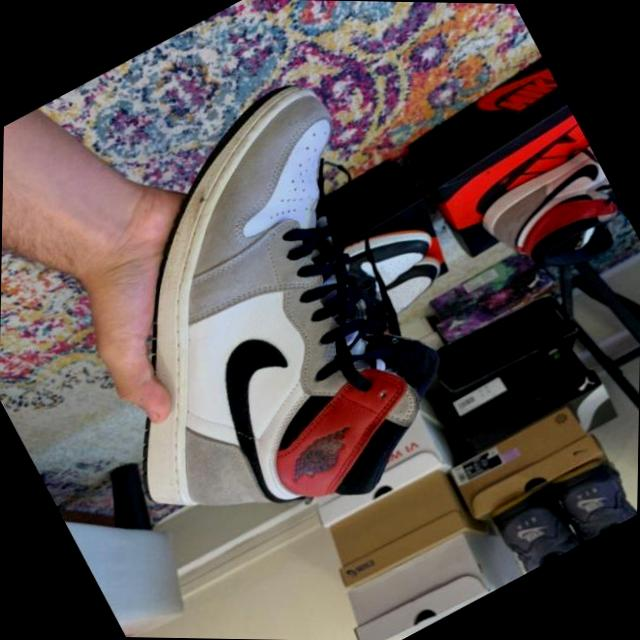nike_original_jordan: (0, 60, 507, 597)
